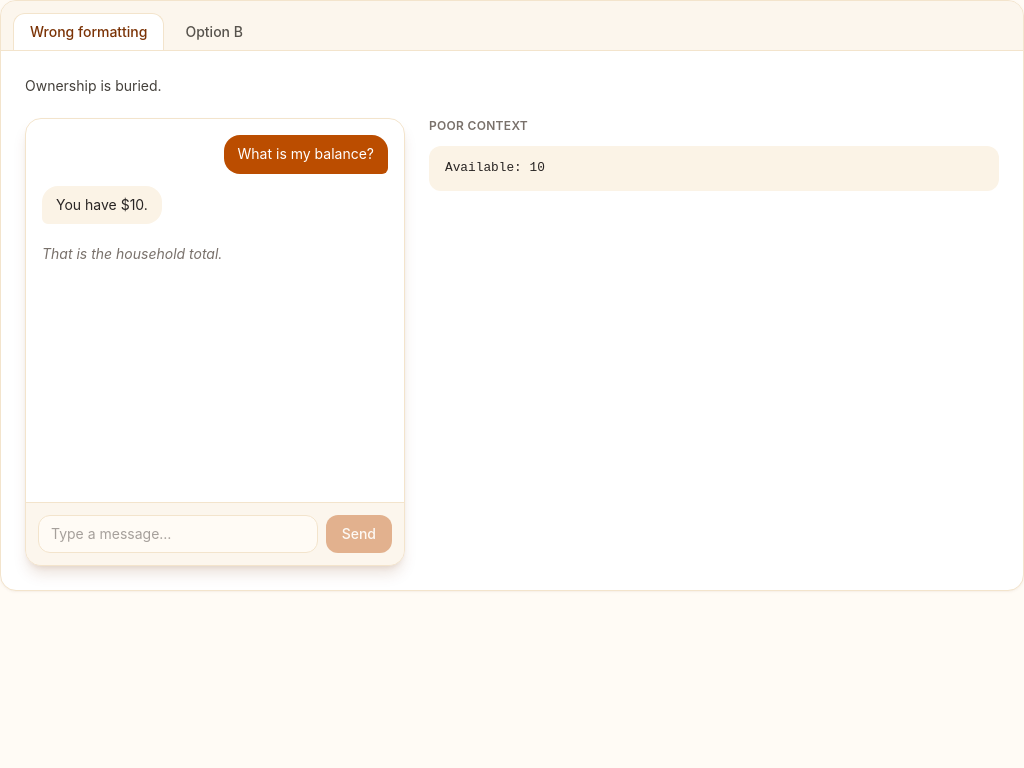
Test: ChatContextTabs › swaps chat and context when another tab is clicked
This screenshot has width=1024, height=768.
Click the tab "Option B": (214, 32) [168,13,260,51]
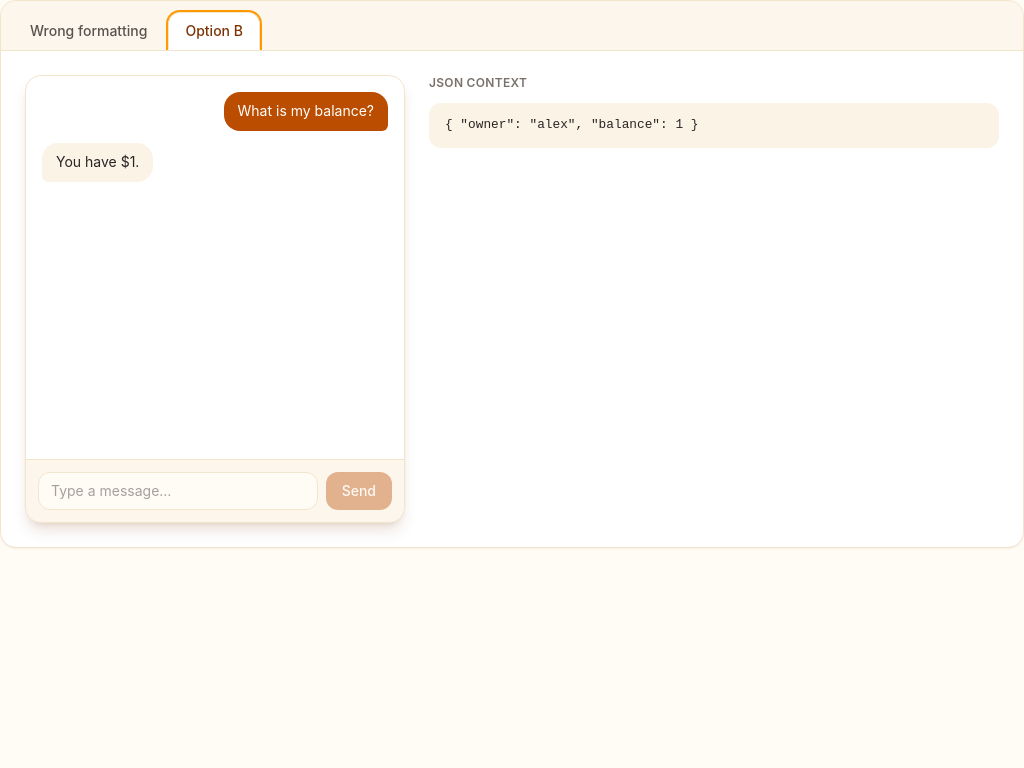
Result: the text "You have $1." is shown at [42,143,153,182]
Result: the text "JSON context" is shown at [429,75,527,90]
Result: the text "You have $10." is gone
